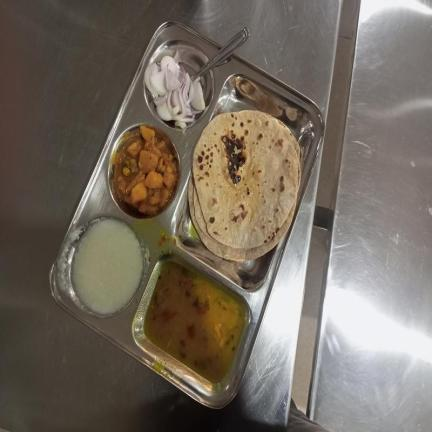Aalu Ki Sabji: (114, 127, 178, 214)
Chana Dal: (142, 262, 245, 384)
Dahi: (71, 218, 143, 312)
Plate: (48, 18, 325, 408)
Roti: (188, 108, 302, 262)
Salad: (144, 46, 208, 128)
